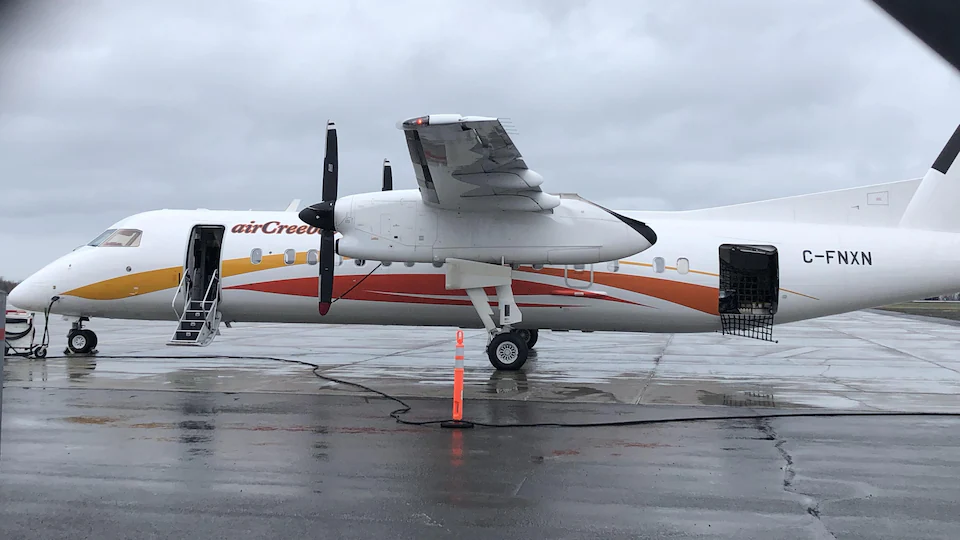Aeronef_commercial: (7, 92, 960, 369)
